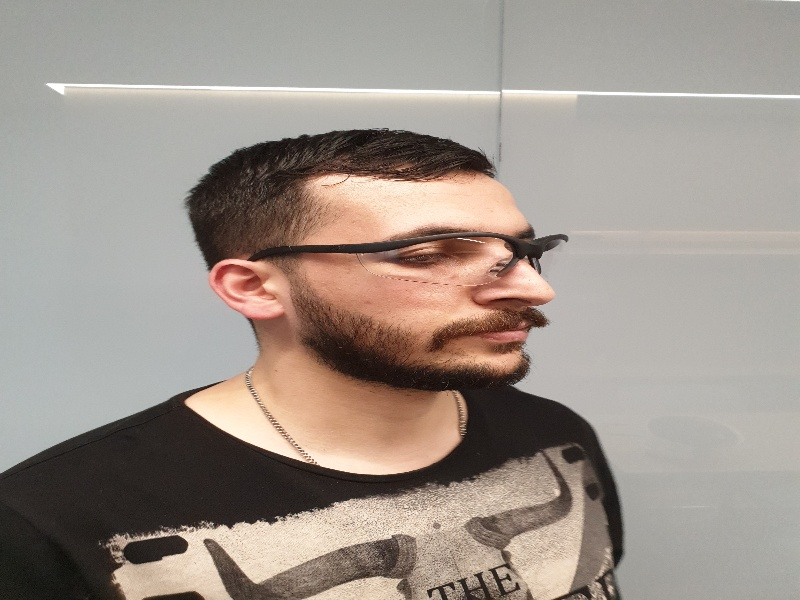Gozluk: (264, 233, 569, 300)
